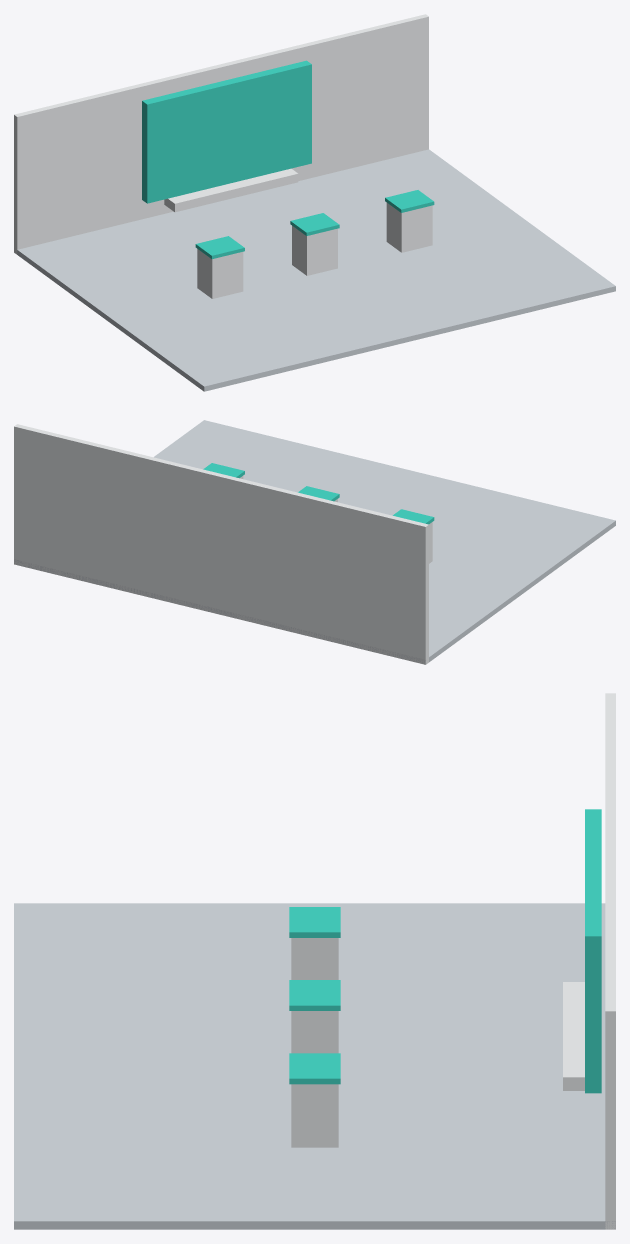
3 renders of one model, top to bottom at view 1: azimuth 30°, elevation 25°; view 2: azimuth 150°, elevation 25°; view 3: azimuth 270°, elevation 25°, orthographic. The views are drawn at different scales.
Visible parts, largest first — view 1: Exhibition Booth Concept; view 2: Exhibition Booth Concept; view 3: Exhibition Booth Concept.
Boxes of the visible parts, bbox=[...] form: Exhibition Booth Concept: bbox=[14, 14, 615, 391]; Exhibition Booth Concept: bbox=[14, 420, 615, 664]; Exhibition Booth Concept: bbox=[14, 693, 615, 1229].
Size of the model in its own units: 10 by 3.2 by 8.
